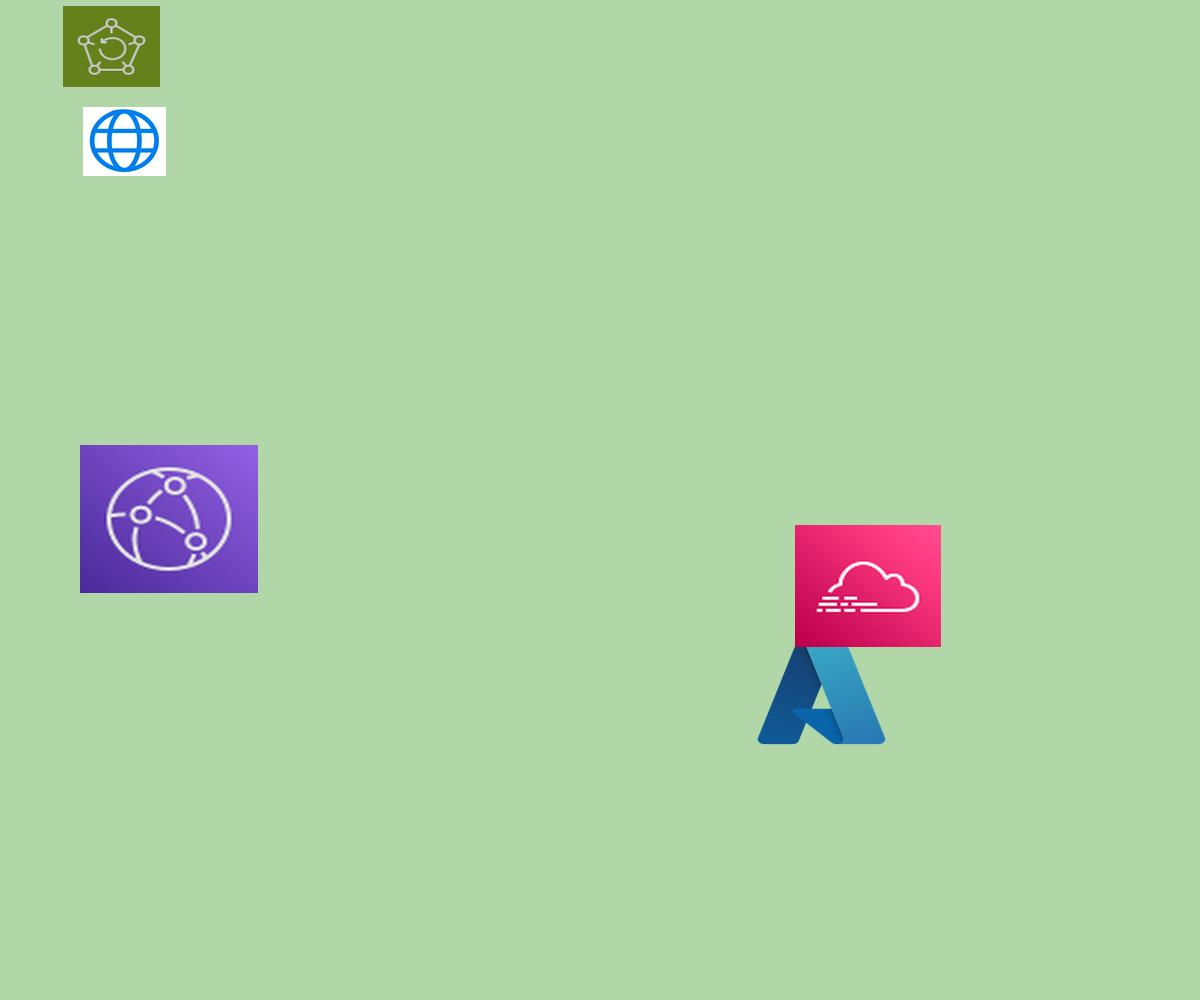AWS-Backup: (63, 6, 160, 87)
AWS-CloudFront: (80, 445, 258, 593)
AWS-CloudTrail: (795, 525, 941, 647)
Azure_http: (83, 107, 166, 176)
Azure_services: (752, 636, 891, 752)
